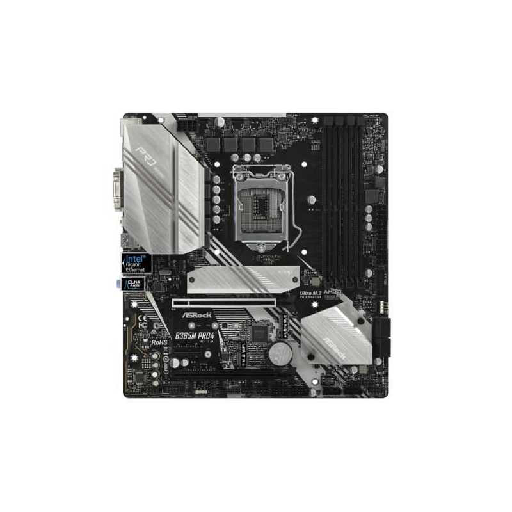CPU: (231, 165, 292, 253)
GPU: (168, 365, 302, 387), (168, 294, 300, 314)
MOTHERBOARD: (112, 109, 391, 400)
RAM: (317, 117, 373, 290)
SSD: (234, 340, 251, 369), (276, 313, 288, 341)
